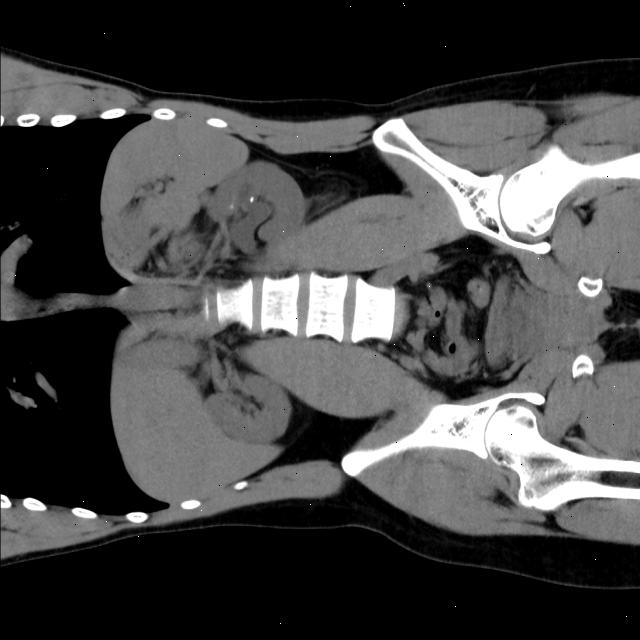kidneystone: (250, 191, 257, 200)
